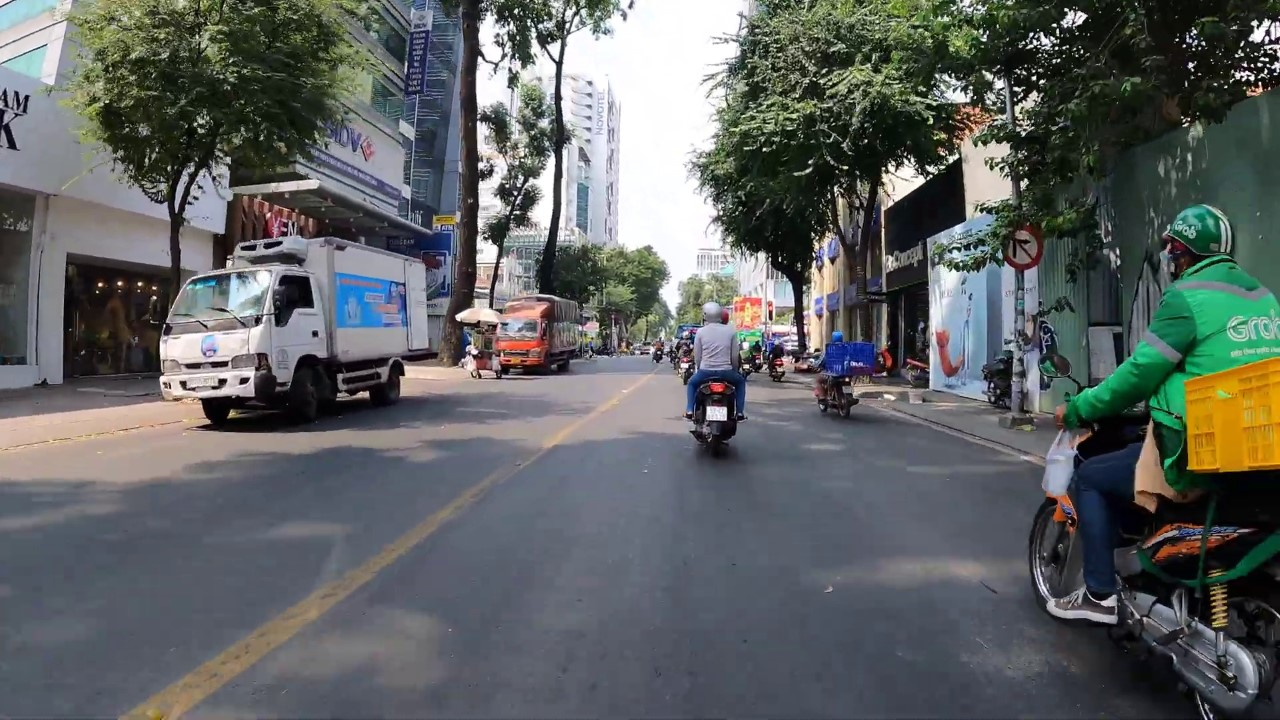cam_re_phai: (1002, 224, 1044, 271)
